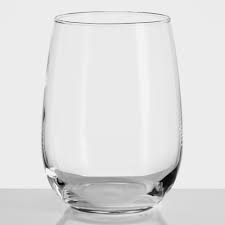glass: (38, 8, 188, 219)
